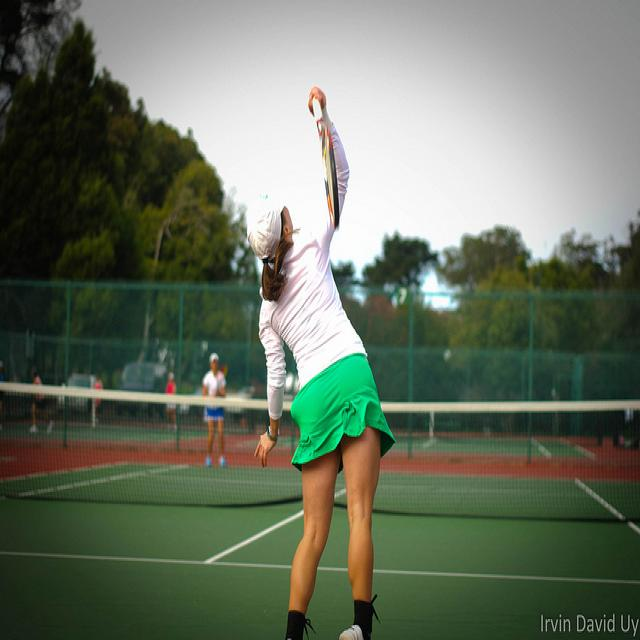Vehicle: (119, 362, 170, 393), (58, 374, 96, 415)
